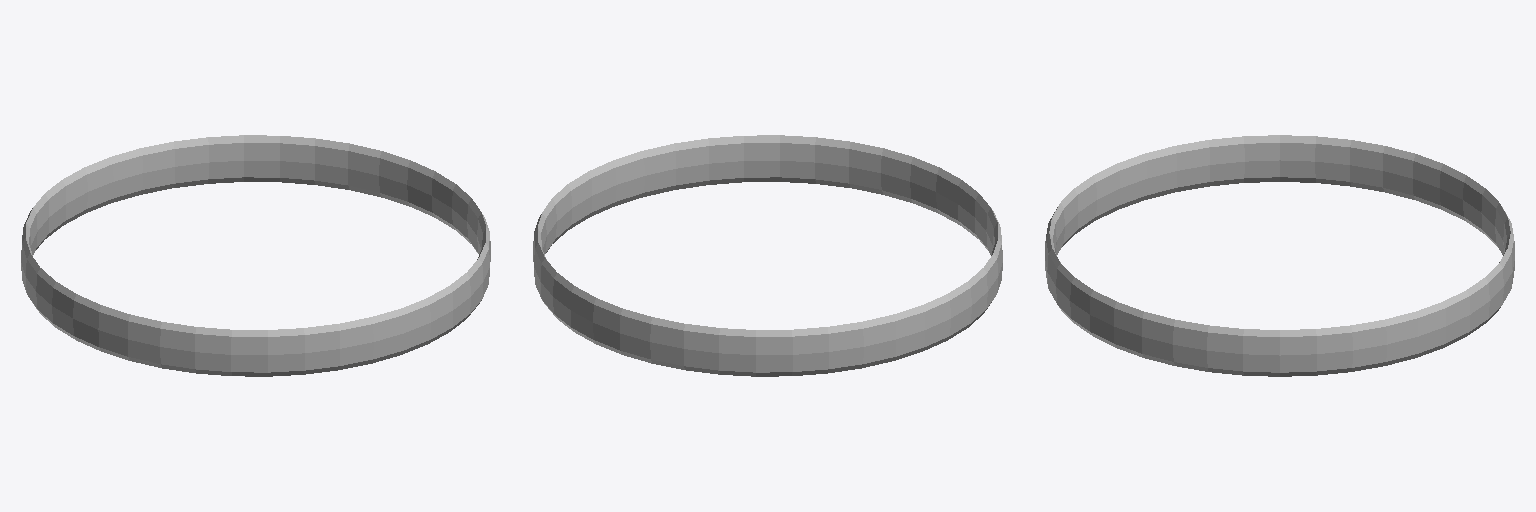
Rendered from zone.obj.
3 renders of one model, left to right at view 1: azimuth 30°, elevation 25°; view 2: azimuth 150°, elevation 25°; view 3: azimuth 270°, elevation 25°, orthographic.
Visible parts, largest first — view 1: pCylinder7; view 2: pCylinder7; view 3: pCylinder7.
Boxes of the visible parts, <box> form: pCylinder7: <box>21,135,490,376</box>; pCylinder7: <box>533,135,1002,376</box>; pCylinder7: <box>1045,135,1514,376</box>.
Size of the model in its own units: 1.98 by 0.2162 by 1.98.